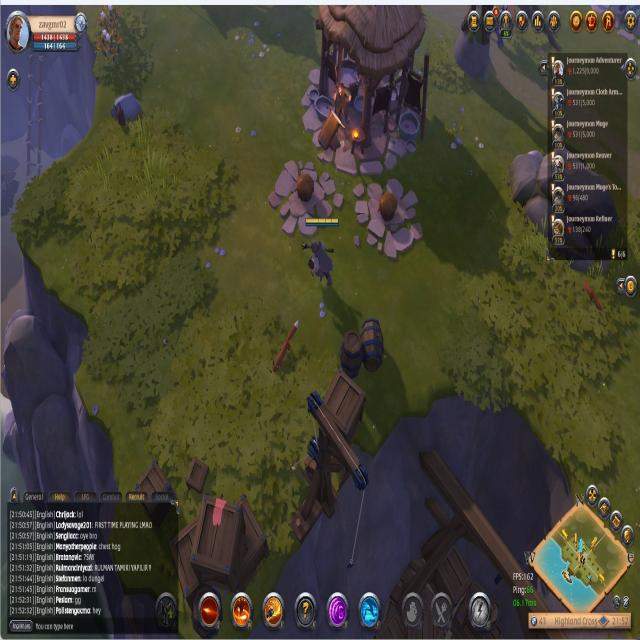stone: (109, 88, 143, 127)
